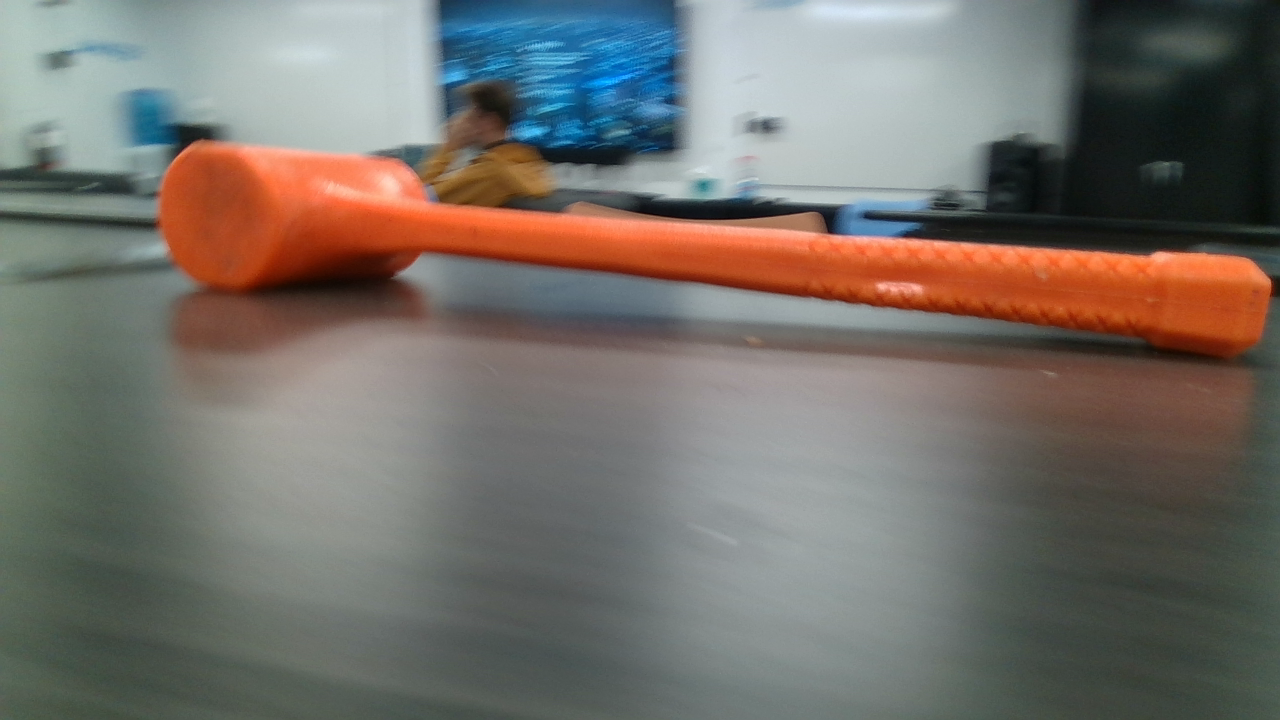Orange Hammer: (168, 143, 1272, 360)
